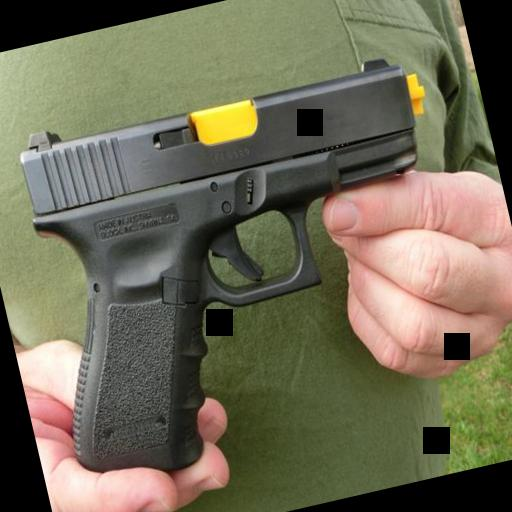Handgun: (0, 45, 492, 484)
